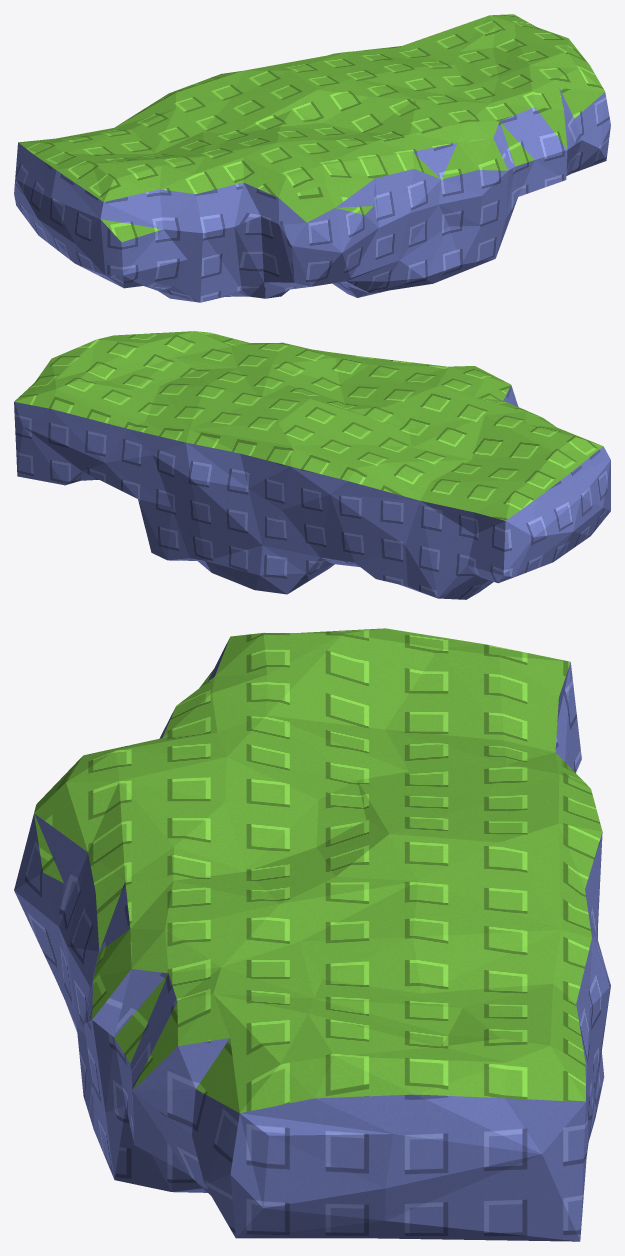
The model's file is Overhang.glb.
3 views of the same model, one above another, from view 1: azimuth 30°, elevation 25°; view 2: azimuth 150°, elevation 25°; view 3: azimuth 270°, elevation 25° (orthographic). The views are drawn at different scales.
Parts seen in each view (by area): view 1: Overhang_Top, Overhang_Rock; view 2: Overhang_Top, Overhang_Rock; view 3: Overhang_Top, Overhang_Rock.
Boxes of the visible parts, <box> form: Overhang_Top: <box>18,14,604,242</box>; Overhang_Rock: <box>14,88,610,302</box>; Overhang_Top: <box>14,331,603,520</box>; Overhang_Rock: <box>14,385,610,599</box>; Overhang_Top: <box>34,628,602,1112</box>; Overhang_Rock: <box>14,639,610,1241</box>.
Bounding box in the file's own units: 14.32 × 4.16 × 7.54.
Materials: 2 (2 with a texture image).
